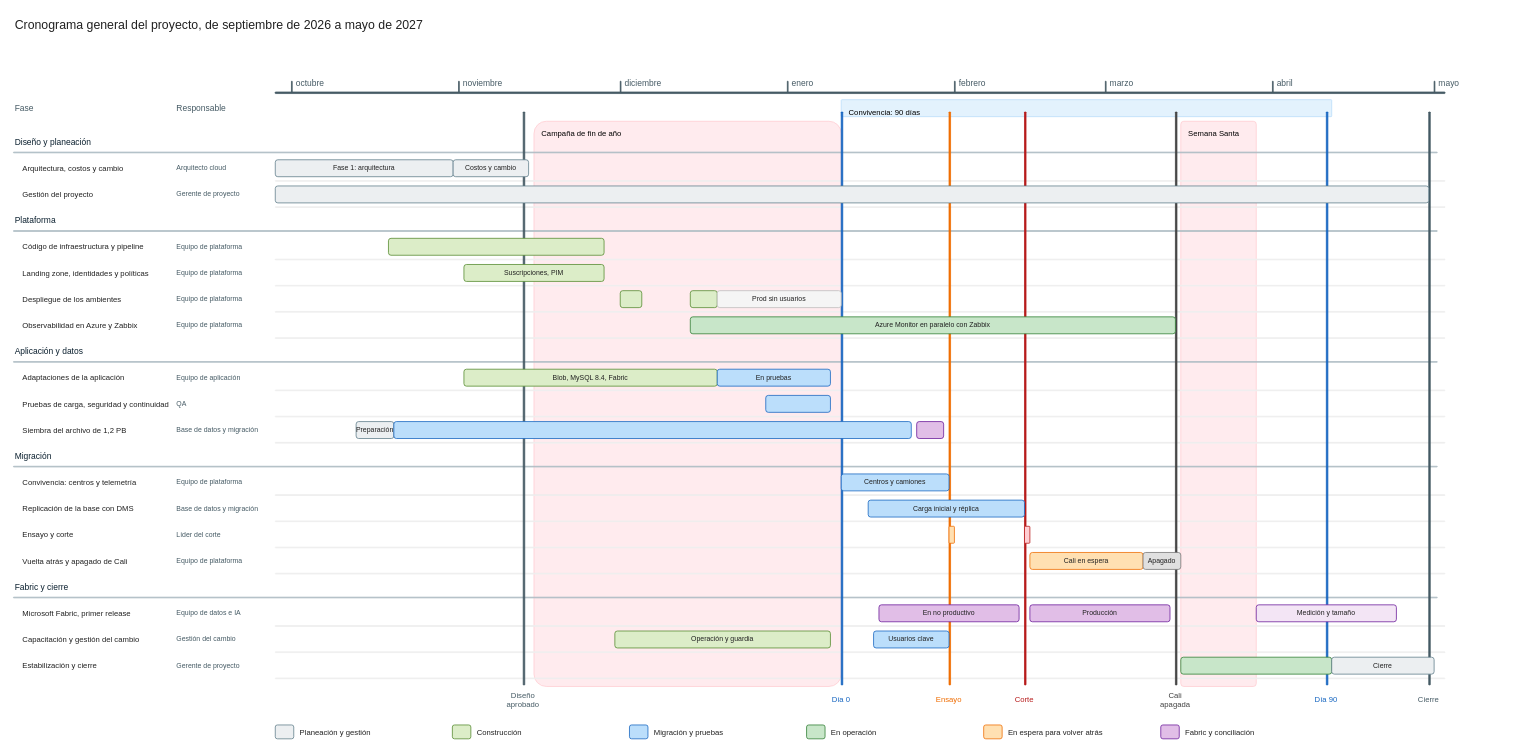
This 1535x755 diagram has some shape labels left out. The centre of each missing label's shape, as x and y in pixels:
2.000 rpm: point (797, 403)
Margen del día 90: point (1256, 665)
Nueve trabajos de discos: point (652, 430)
Seguimiento semanal, riesgos, presupuesto y comité de cambios: point (852, 194)
Terraform y GitHub Actions: point (496, 246)
